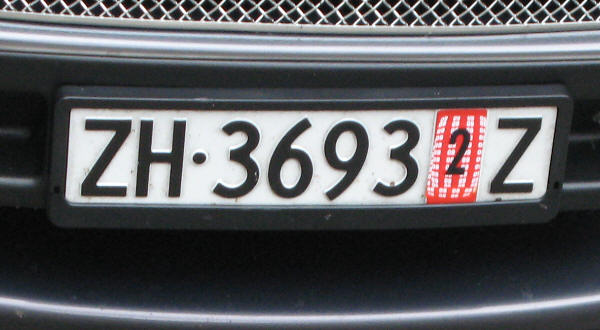license_plate: (62, 103, 558, 207)
